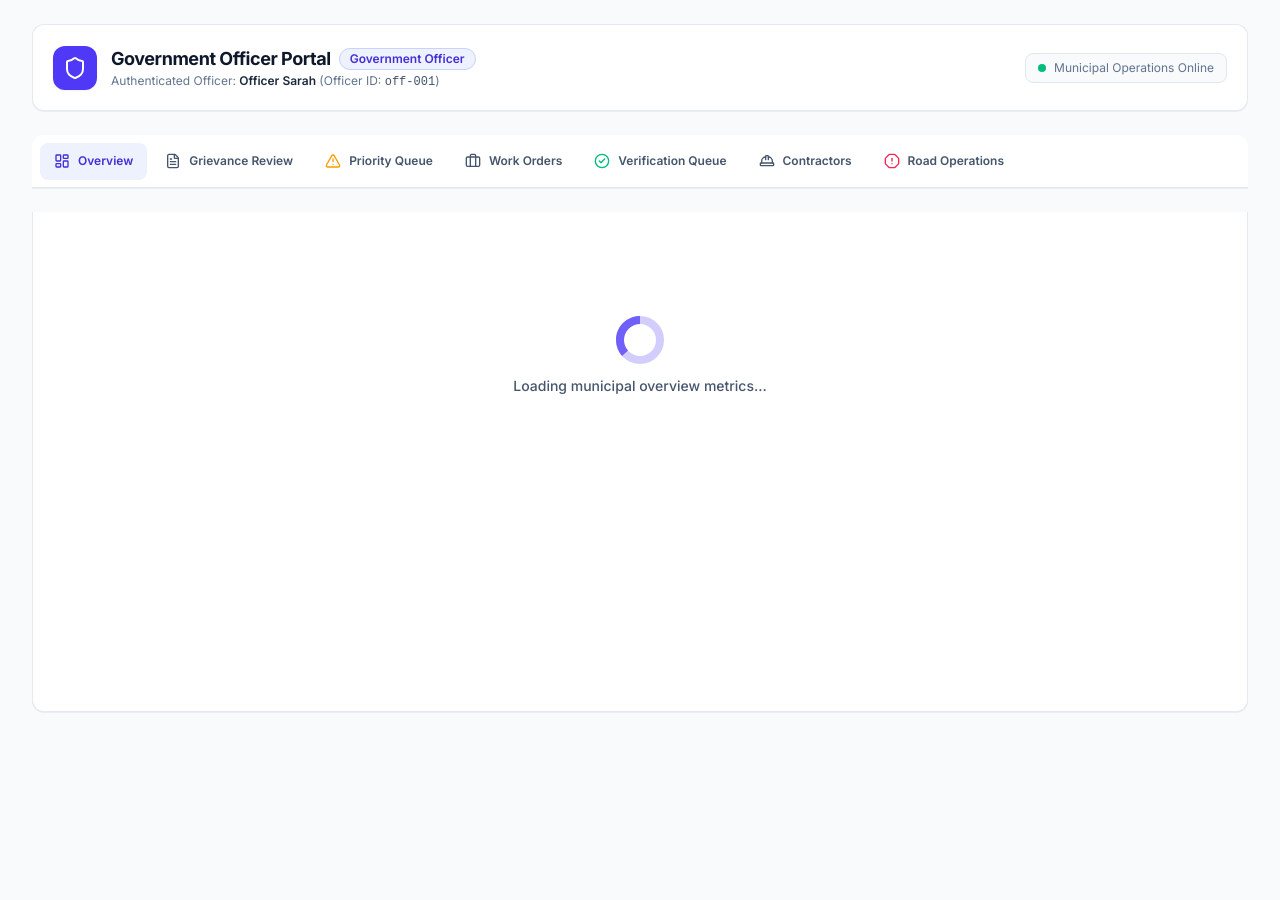
Test: GovernmentDashboardPage Integration › navigates to Contractors tab and displays workload summaries
Click the button "Contractors": point(805, 161) x1=744 y1=143 x2=866 y2=179
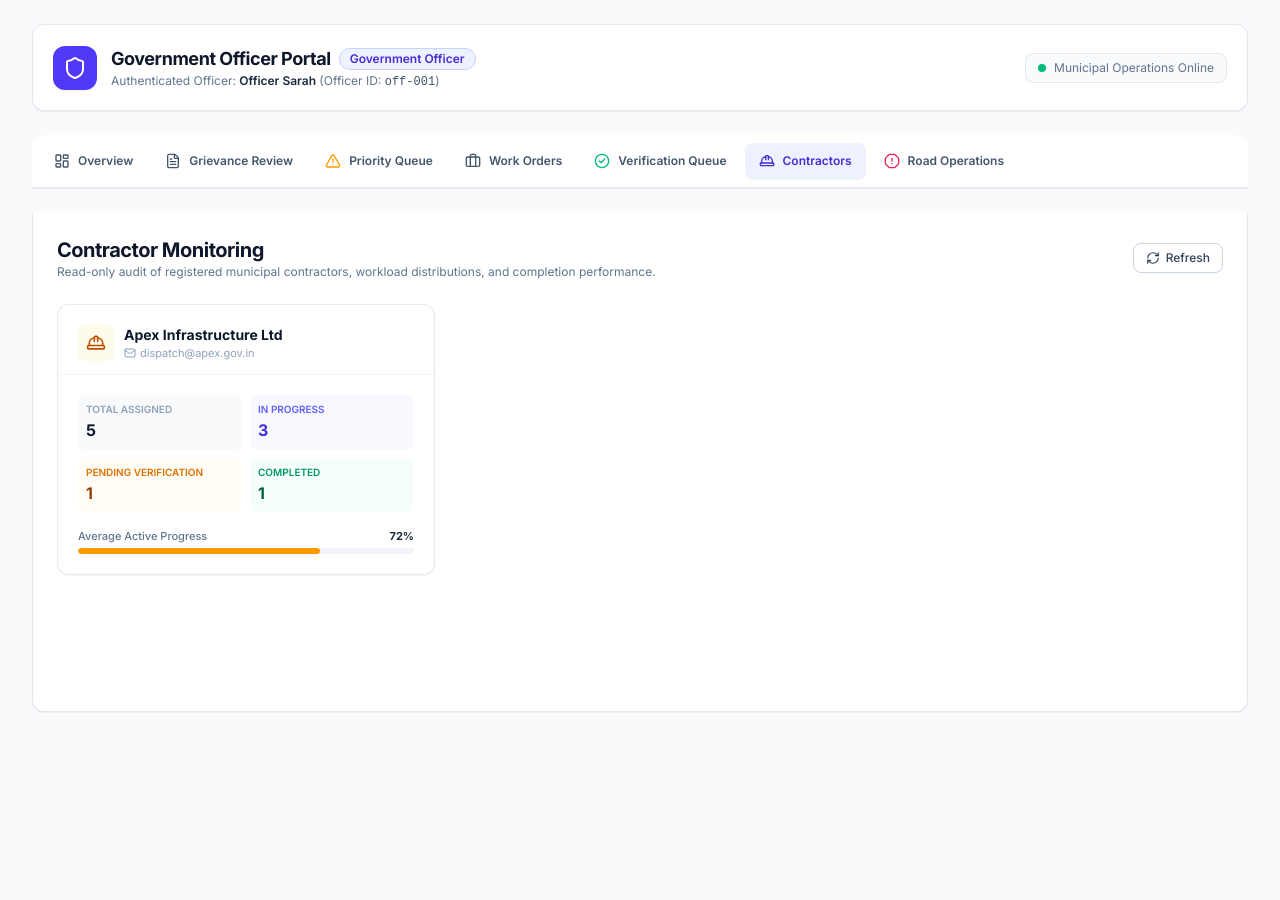
Now the heading "Apex Infrastructure Ltd" is shown, box x1=124 y1=325 x2=282 y2=345
Now the text "dispatch@apex.gov.in" is shown, box x1=124 y1=346 x2=254 y2=360
Now the text "72%" is shown, box x1=390 y1=529 x2=414 y2=544
